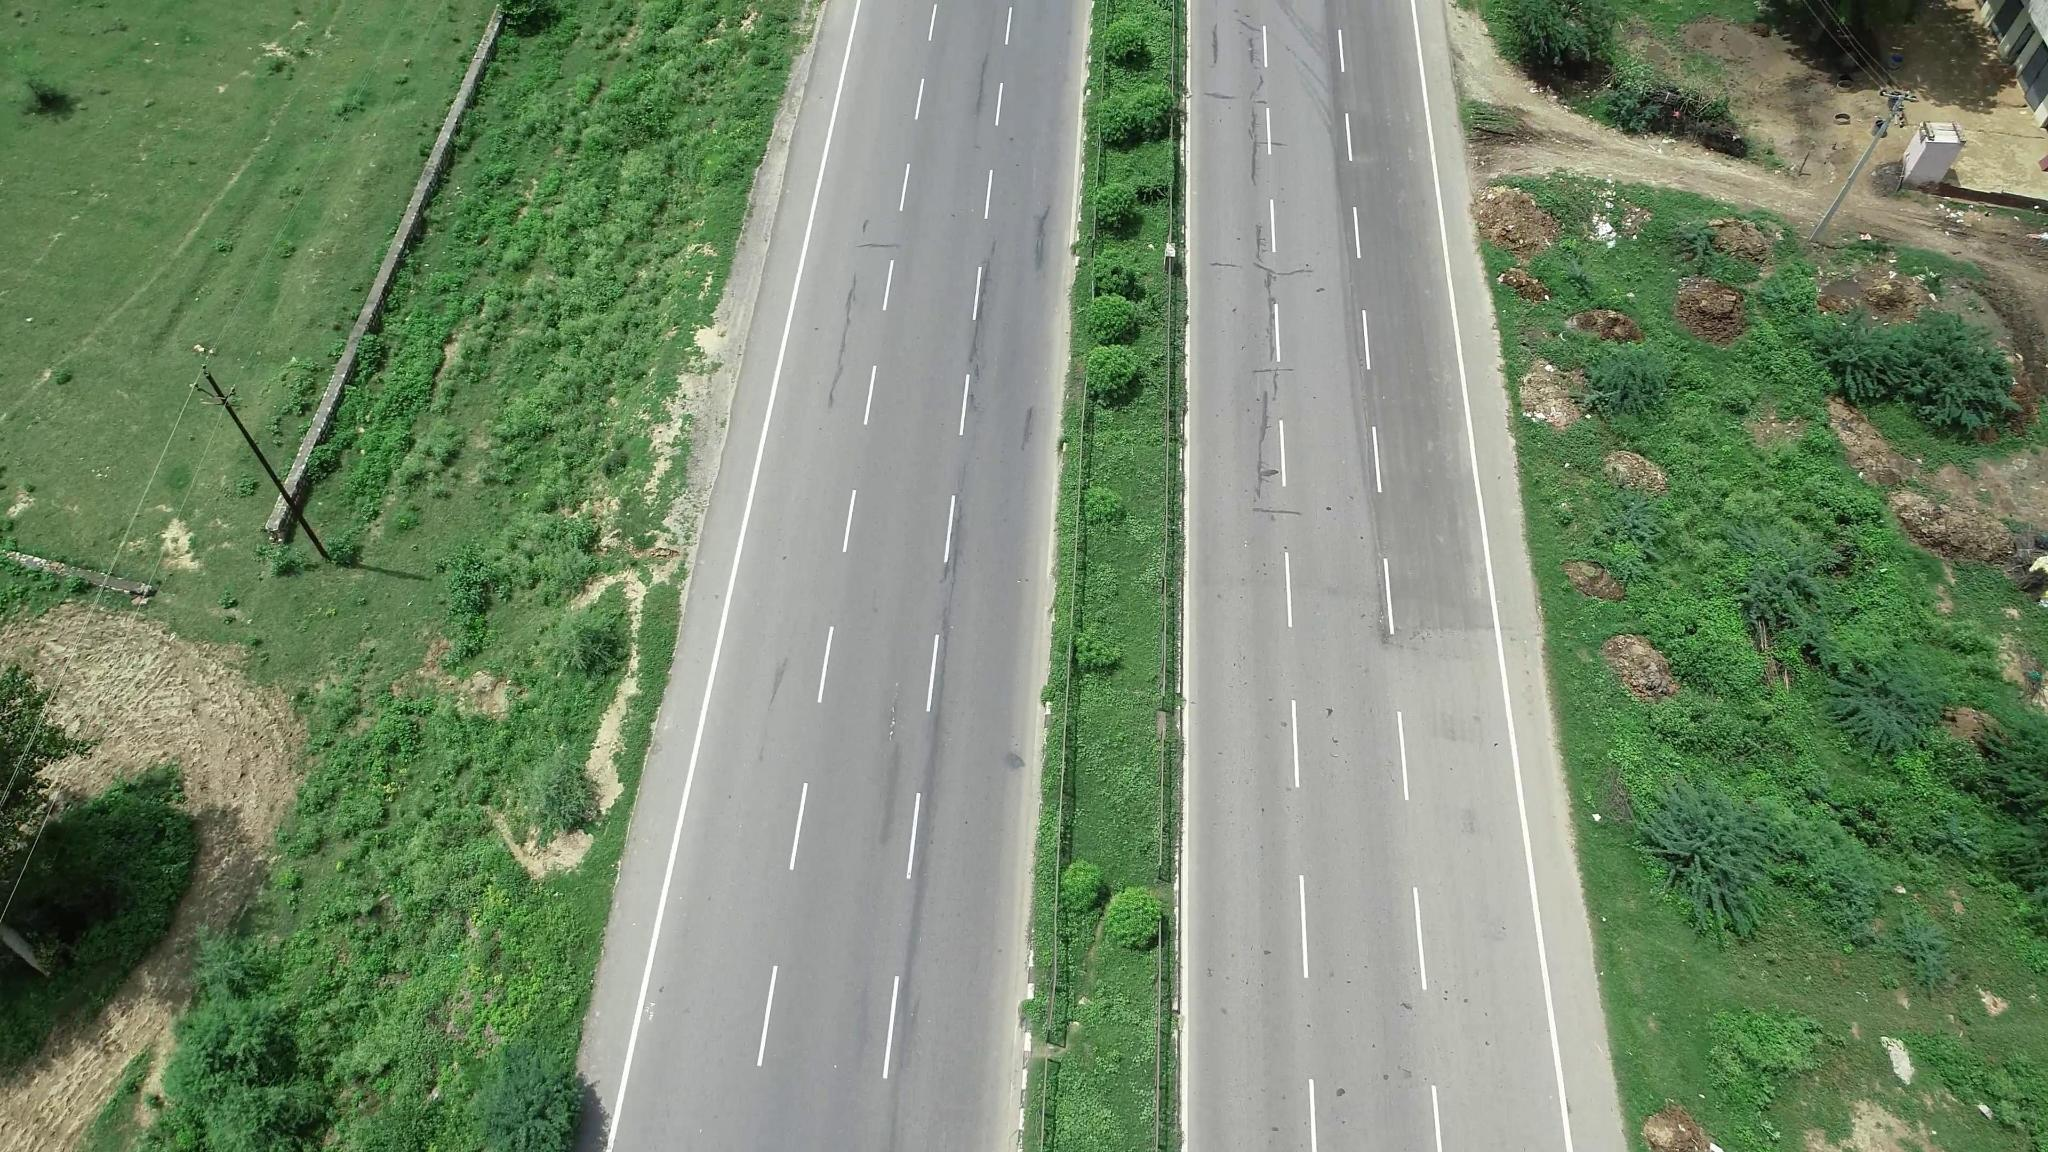Cracks: (1227, 34, 1294, 489), (821, 226, 876, 411)
